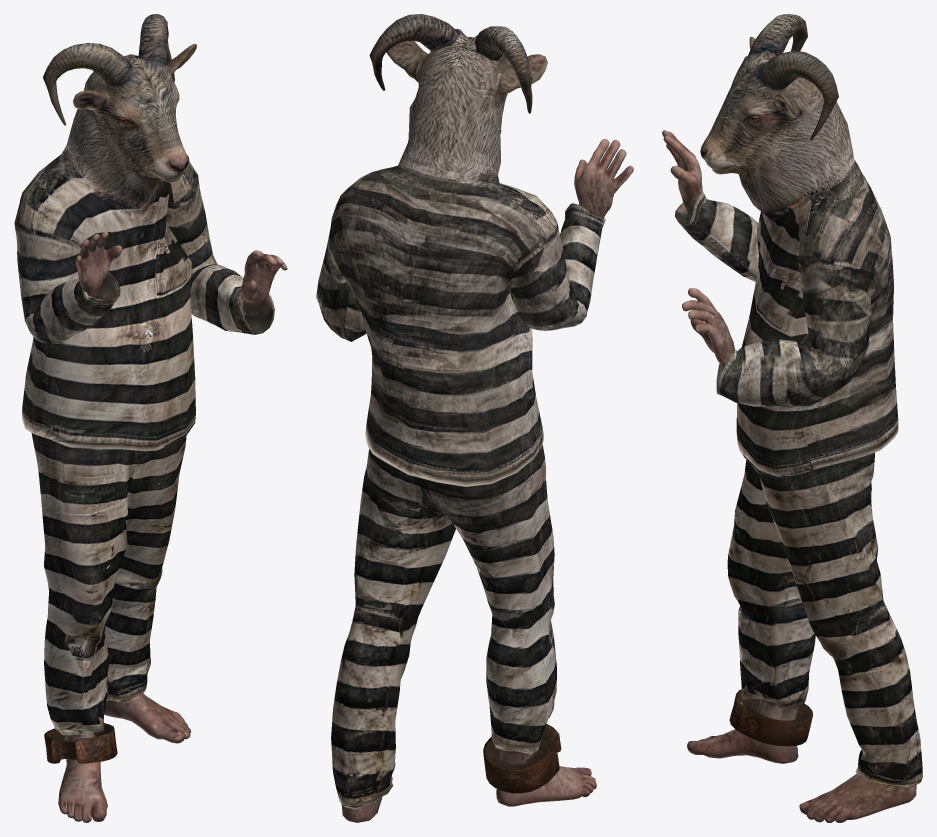
File: Goatprisoner_IdleByWall.fbx
3 views of the same model, side by side, from view 1: azimuth 30°, elevation 25°; view 2: azimuth 150°, elevation 25°; view 3: azimuth 270°, elevation 25° (orthographic). The views are drawn at different scales.
Visible parts, largest first — view 1: tripo_node_0f377493; view 2: tripo_node_0f377493; view 3: tripo_node_0f377493.
Boxes of the visible parts, x1,y1,x2,y2 form: tripo_node_0f377493: (14, 14, 287, 822); tripo_node_0f377493: (316, 14, 633, 822); tripo_node_0f377493: (662, 14, 922, 822).
Bounding box in the file's own units: 159 × 156 × 497.
